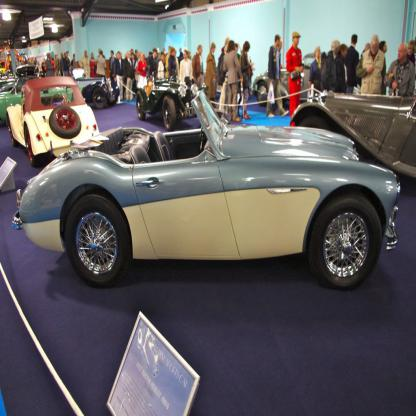Car: (0, 60, 415, 291)
